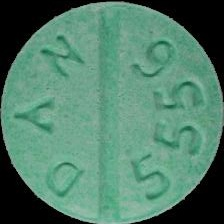43063-615: (0, 0, 224, 224)
